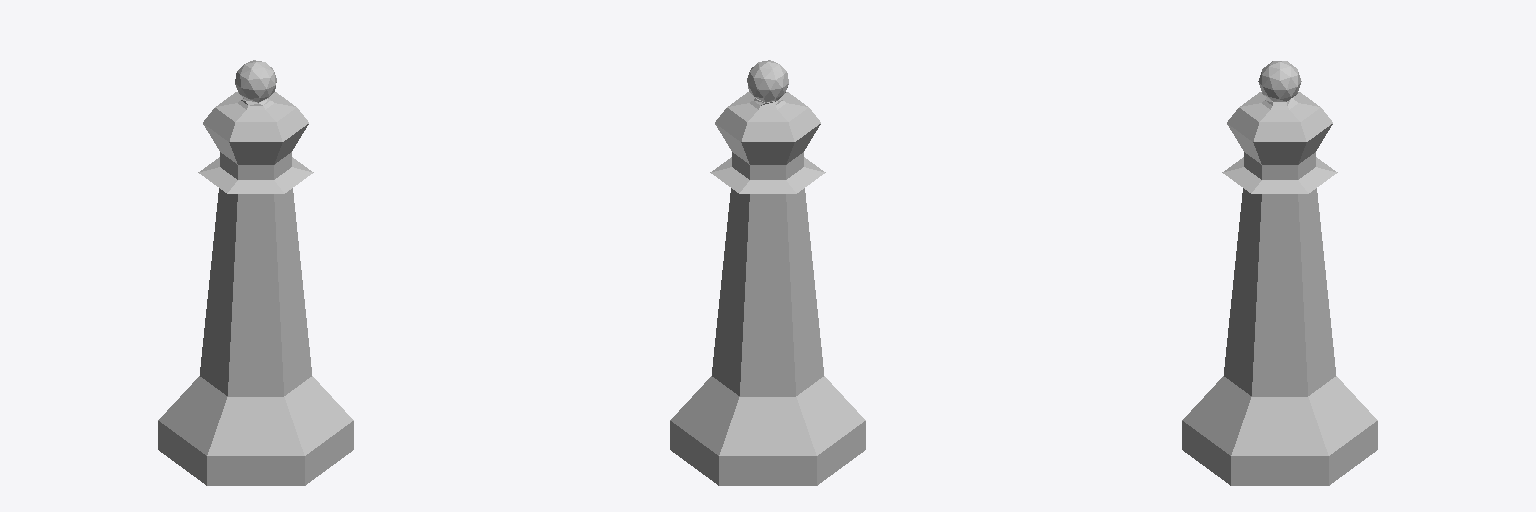
File: queen.obj
The picture shows the model from 3 angles: view 1: azimuth 30°, elevation 25°; view 2: azimuth 150°, elevation 25°; view 3: azimuth 270°, elevation 25°; orthographic projection.
Visible parts, largest first — view 1: Queen; view 2: Queen; view 3: Queen.
Boxes of the visible parts, x1,y1,x2,y2 form: Queen: [158, 60, 353, 485]; Queen: [670, 60, 865, 485]; Queen: [1182, 61, 1377, 485].
Bounding box in the file's own units: 0.317 × 0.8027 × 0.366.